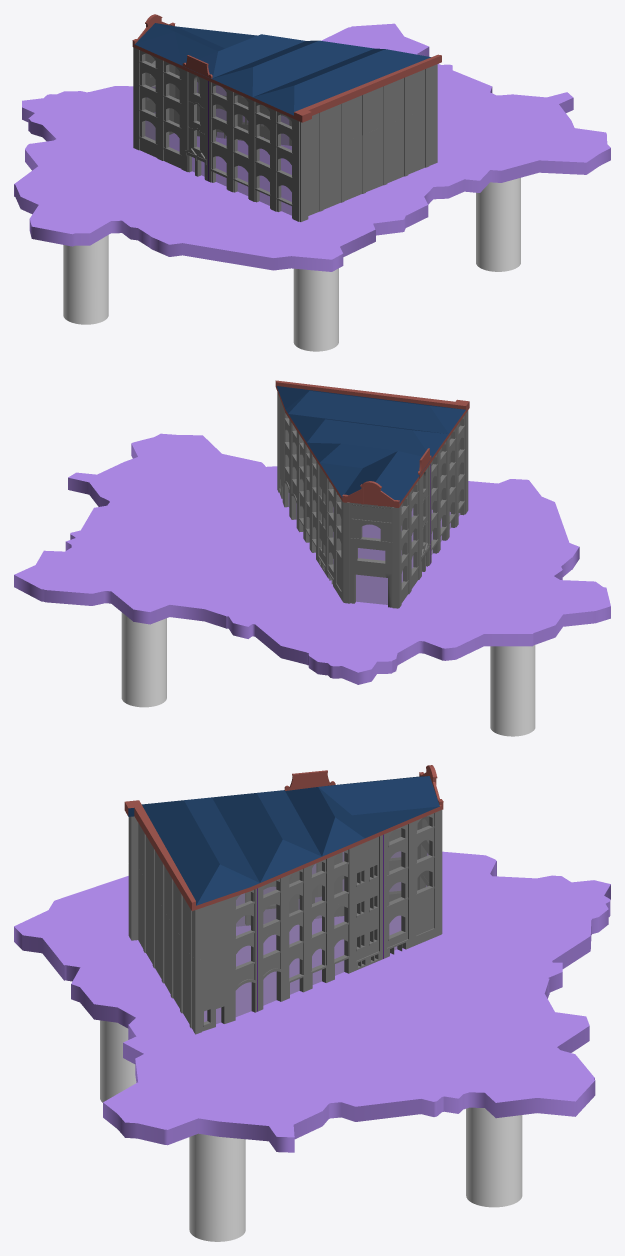
The model's file is leeds-office-v4.gltf.
3 renders of one model, top to bottom at view 1: azimuth 30°, elevation 25°; view 2: azimuth 150°, elevation 25°; view 3: azimuth 270°, elevation 25°, orthographic. The views are drawn at different scales.
Parts seen in each view (by area): view 1: object 1, 5.) Roof - 3D Print, 1.) Ground Floor - 3D Print, 2.) First Floor - 3D Print#1, 3.) Second Floor - 3D Print, 4.) Third Floor - 3D Print, object 3, object 5, object 4; view 2: object 1, 5.) Roof - 3D Print, 1.) Ground Floor - 3D Print, 2.) First Floor - 3D Print#1, 3.) Second Floor - 3D Print, object 5, object 2, 4.) Third Floor - 3D Print; view 3: object 1, 5.) Roof - 3D Print, 1.) Ground Floor - 3D Print, 2.) First Floor - 3D Print#1, 3.) Second Floor - 3D Print, 4.) Third Floor - 3D Print, object 3, object 2, object 4.
Boxes of the visible parts, x1,y1,x2,y2 form: object 1: [14, 23, 610, 271]; 5.) Roof - 3D Print: [132, 14, 441, 122]; 1.) Ground Floor - 3D Print: [133, 99, 437, 221]; 2.) First Floor - 3D Print#1: [133, 74, 437, 187]; 3.) Second Floor - 3D Print: [133, 59, 437, 163]; 4.) Third Floor - 3D Print: [133, 47, 437, 139]; object 3: [476, 178, 520, 271]; object 5: [63, 235, 108, 324]; object 4: [293, 268, 338, 351]; object 1: [14, 433, 610, 684]; 5.) Roof - 3D Print: [275, 380, 469, 507]; 1.) Ground Floor - 3D Print: [277, 456, 468, 608]; 2.) First Floor - 3D Print#1: [277, 431, 468, 574]; 3.) Second Floor - 3D Print: [277, 407, 468, 549]; object 5: [490, 645, 535, 736]; object 2: [121, 612, 166, 707]; 4.) Third Floor - 3D Print: [277, 392, 468, 525]; object 1: [14, 851, 610, 1152]; 5.) Roof - 3D Print: [124, 765, 443, 911]; 1.) Ground Floor - 3D Print: [128, 869, 442, 1034]; 2.) First Floor - 3D Print#1: [128, 838, 442, 992]; 3.) Second Floor - 3D Print: [128, 817, 442, 961]; 4.) Third Floor - 3D Print: [128, 810, 442, 931]; object 3: [189, 1133, 245, 1241]; object 2: [466, 1107, 522, 1207]; object 4: [100, 1020, 136, 1102].
Bounding box in the file's own units: 0.5495 × 0.2404 × 0.4241.
